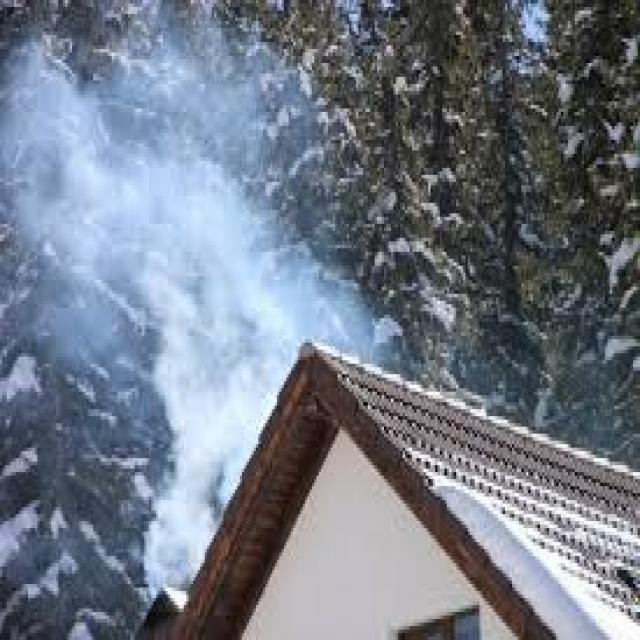Smoke: (0, 0, 374, 601)
